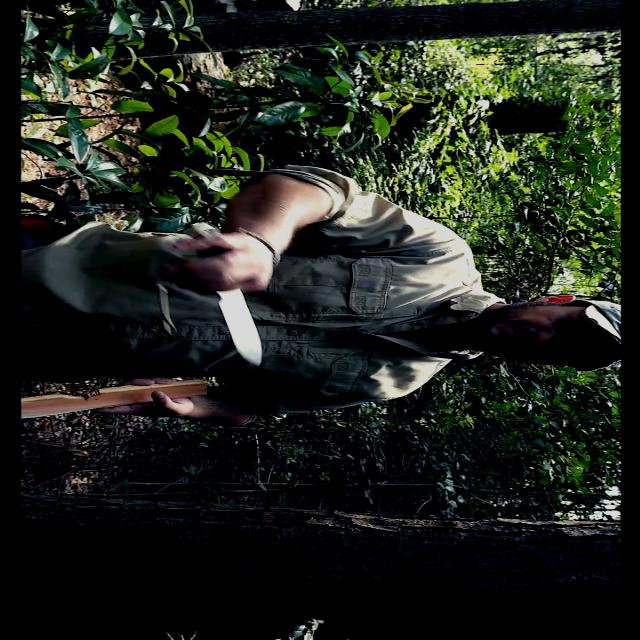knife: (164, 244, 272, 375)
